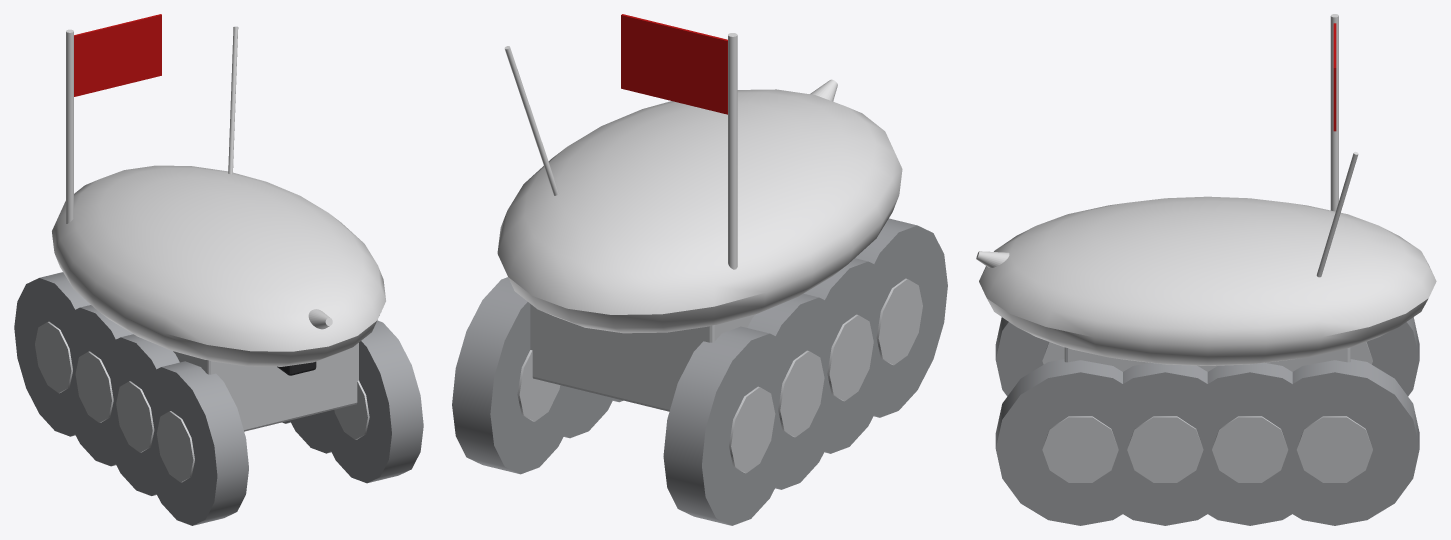
The model's file is mission-lunokhod.glb.
3 renders of one model, left to right at view 1: azimuth 30°, elevation 25°; view 2: azimuth 150°, elevation 25°; view 3: azimuth 270°, elevation 25°, orthographic. The views are drawn at different scales.
Visible parts, largest first — view 1: lid, w_-1_0_t, w_1_0_t, tub, w_-1_3_t, flagcloth, w_-1_2_t, w_-1_1_t, w_-1_1_h, w_-1_3_h, w_-1_2_h, w_-1_0_h (+4 smaller); view 2: lid, w_-1_3_t, w_1_3_t, tub, w_-1_0_t, flagcloth, w_-1_2_t, w_-1_1_t, w_-1_1_h, w_-1_2_h, w_-1_3_h, w_-1_0_h (+4 smaller); view 3: lid, w_1_0_t, w_1_3_t, w_1_2_t, w_1_1_t, w_1_1_h, w_1_3_h, w_1_0_h, w_1_2_h, w_-1_0_t, w_-1_3_t, tub (+2 smaller).
Boxes of the visible parts, x1=… form: lid: x1=52, y1=165, x2=385, y2=366; w_-1_0_t: x1=141, y1=361, x2=248, y2=525; w_1_0_t: x1=316, y1=320, x2=423, y2=483; tub: x1=173, y1=343, x2=358, y2=431; w_-1_3_t: x1=14, y1=272, x2=90, y2=436; flagcloth: x1=74, y1=14, x2=161, y2=96; w_-1_2_t: x1=60, y1=305, x2=133, y2=466; w_-1_1_t: x1=106, y1=334, x2=179, y2=495; w_-1_1_h: x1=116, y1=381, x2=154, y2=452; w_-1_3_h: x1=35, y1=321, x2=72, y2=393; w_-1_2_h: x1=75, y1=351, x2=113, y2=422; w_-1_0_h: x1=156, y1=411, x2=194, y2=482; lid: x1=497, y1=89, x2=902, y2=333; w_-1_3_t: x1=663, y1=326, x2=791, y2=525; w_1_3_t: x1=452, y1=277, x2=578, y2=474; tub: x1=530, y1=304, x2=755, y2=411; w_-1_0_t: x1=855, y1=218, x2=947, y2=417; flagcloth: x1=621, y1=14, x2=727, y2=114; w_-1_2_t: x1=747, y1=293, x2=843, y2=489; w_-1_1_t: x1=804, y1=258, x2=890, y2=453; w_-1_1_h: x1=827, y1=314, x2=873, y2=401; w_-1_2_h: x1=778, y1=350, x2=824, y2=437; w_-1_3_h: x1=729, y1=386, x2=775, y2=473; w_-1_0_h: x1=876, y1=278, x2=922, y2=365; lid: x1=979, y1=196, x2=1436, y2=365; w_1_0_t: x1=995, y1=359, x2=1155, y2=525; w_1_3_t: x1=1260, y1=359, x2=1419, y2=525; w_1_2_t: x1=1175, y1=363, x2=1325, y2=525; w_1_1_t: x1=1090, y1=362, x2=1240, y2=525; w_1_1_h: x1=1127, y1=416, x2=1203, y2=482; w_1_3_h: x1=1296, y1=416, x2=1372, y2=482; w_1_0_h: x1=1042, y1=416, x2=1118, y2=482; w_1_2_h: x1=1212, y1=416, x2=1288, y2=482; w_-1_0_t: x1=995, y1=317, x2=1048, y2=396; w_-1_3_t: x1=1366, y1=317, x2=1419, y2=396; tub: x1=1064, y1=347, x2=1350, y2=371.
Size of the model in its own units: 1.8 by 2.69 by 2.71.
5 materials, 1 textured.
